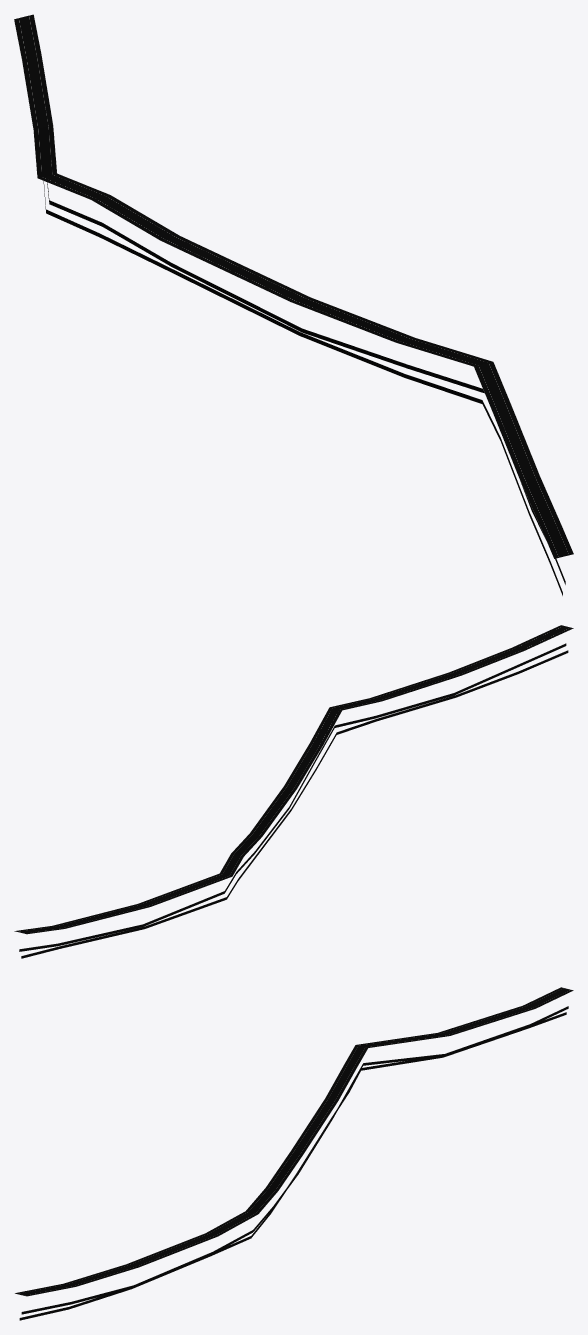
The model's file is vegastwires46.obj.
3 renders of one model, top to bottom at view 1: azimuth 30°, elevation 25°; view 2: azimuth 150°, elevation 25°; view 3: azimuth 330°, elevation 25°, orthographic. The views are drawn at different scales.
Parts seen in each view (by area): view 1: vegastwires46; view 2: vegastwires46; view 3: vegastwires46.
Part boxes in pixels (x1,y1,x2,y2): vegastwires46: [14, 14, 573, 595]; vegastwires46: [14, 625, 573, 958]; vegastwires46: [15, 987, 573, 1320].
Size of the model in its own units: 22.12 by 6.29 by 157.
Materials: 1 (1 with a texture image).
